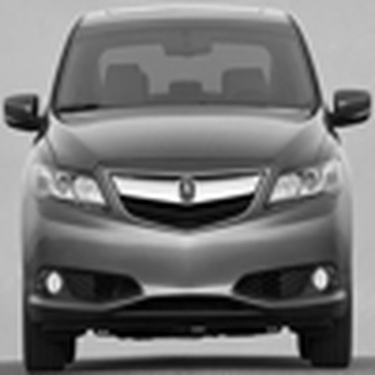car: (1, 15, 367, 358)
